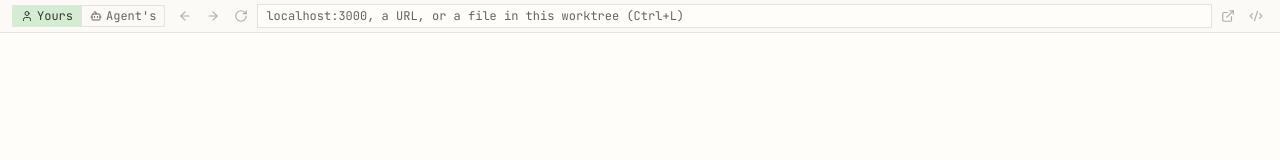
Test: PreviewPanel › navigates from the address bar and shows why a URL was refused
The image size is (1280, 160).
In the field named "Address": (735,16) [257,4,1212,28], type "hello"
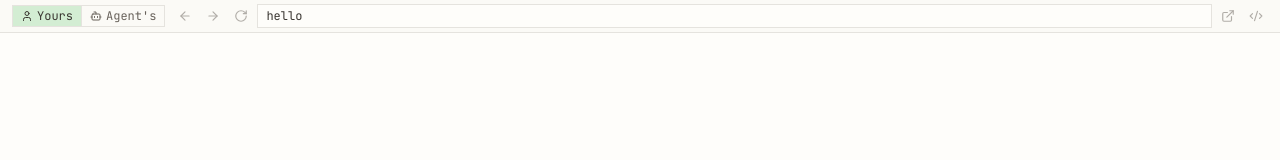
Submit the form named "Address", box [257,4,1212,28]
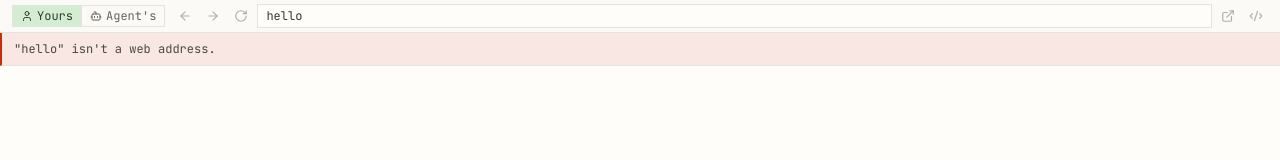
Now the message reads "\"hello\" isn't a web address.", box [14,41,216,57]
